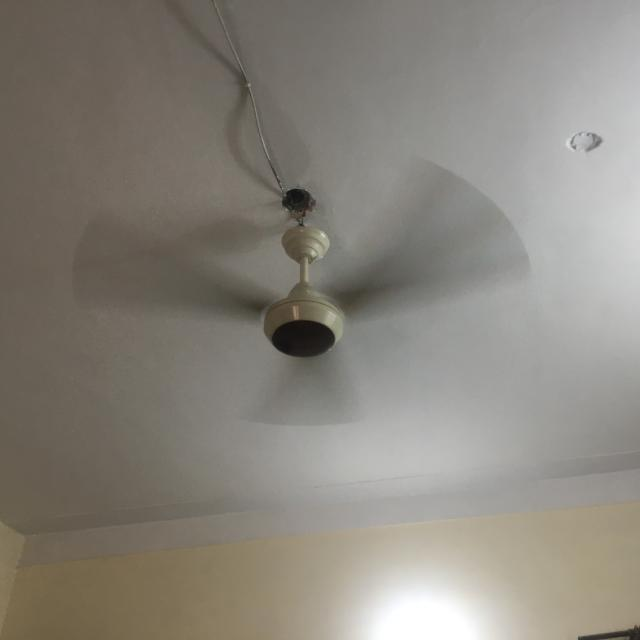on: (61, 146, 538, 433)
